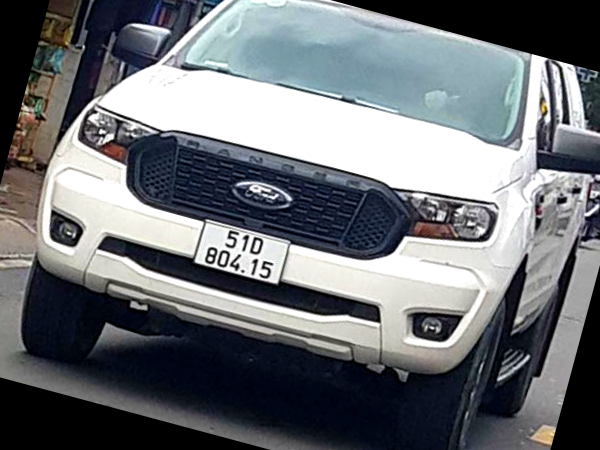lisence: (192, 219, 289, 286)
